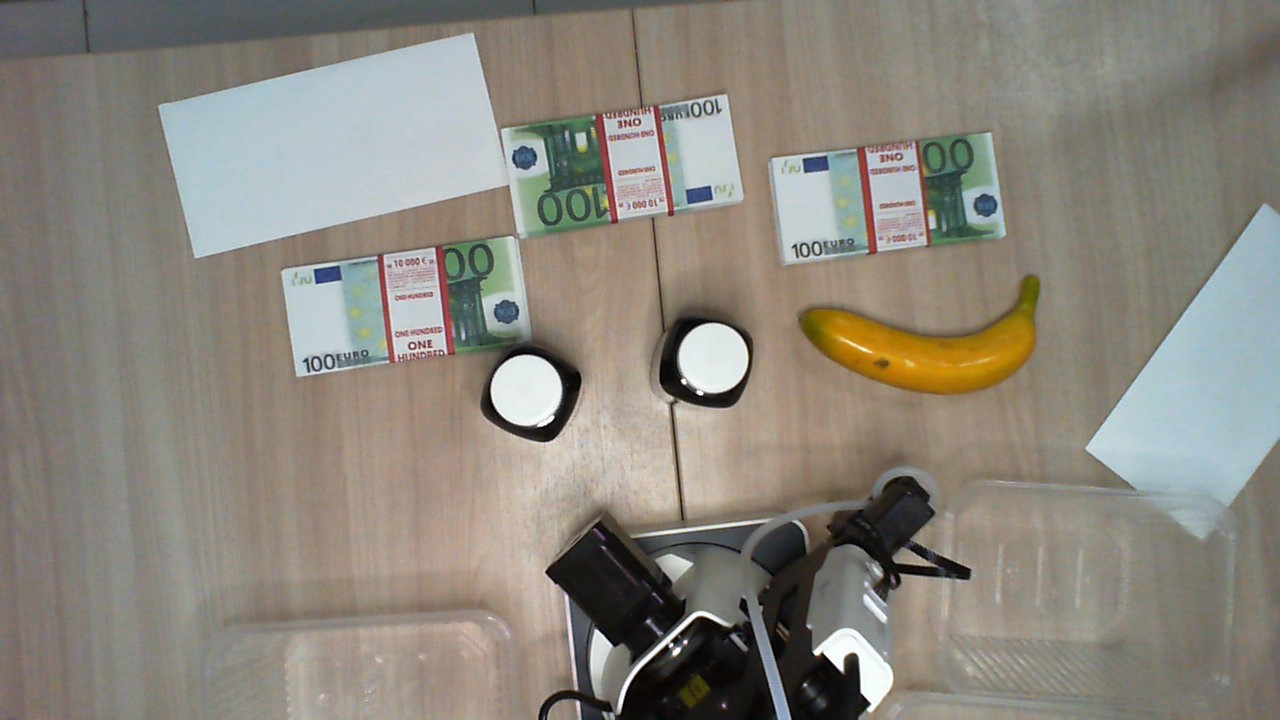banana: (798, 274, 1043, 397)
bottle: (478, 349, 583, 441), (658, 314, 756, 408)
convert: (161, 33, 510, 260), (1086, 203, 1280, 539)
money: (279, 235, 538, 382), (499, 95, 747, 240), (768, 130, 1006, 267)
